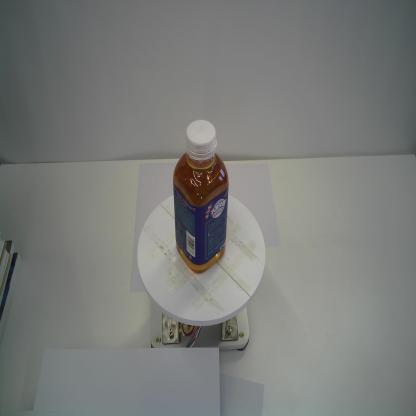Drink: (171, 118, 230, 274)
